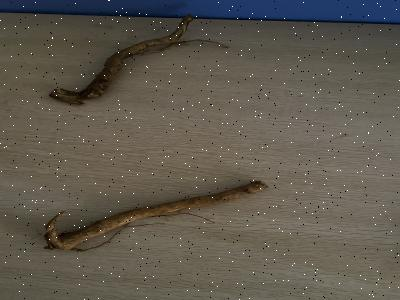Root: (44, 181, 268, 251), (49, 14, 193, 104)
